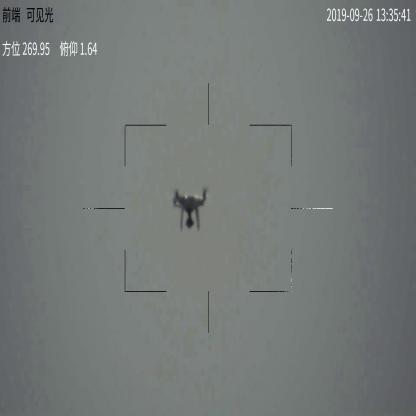uav: (166, 187, 209, 230)
